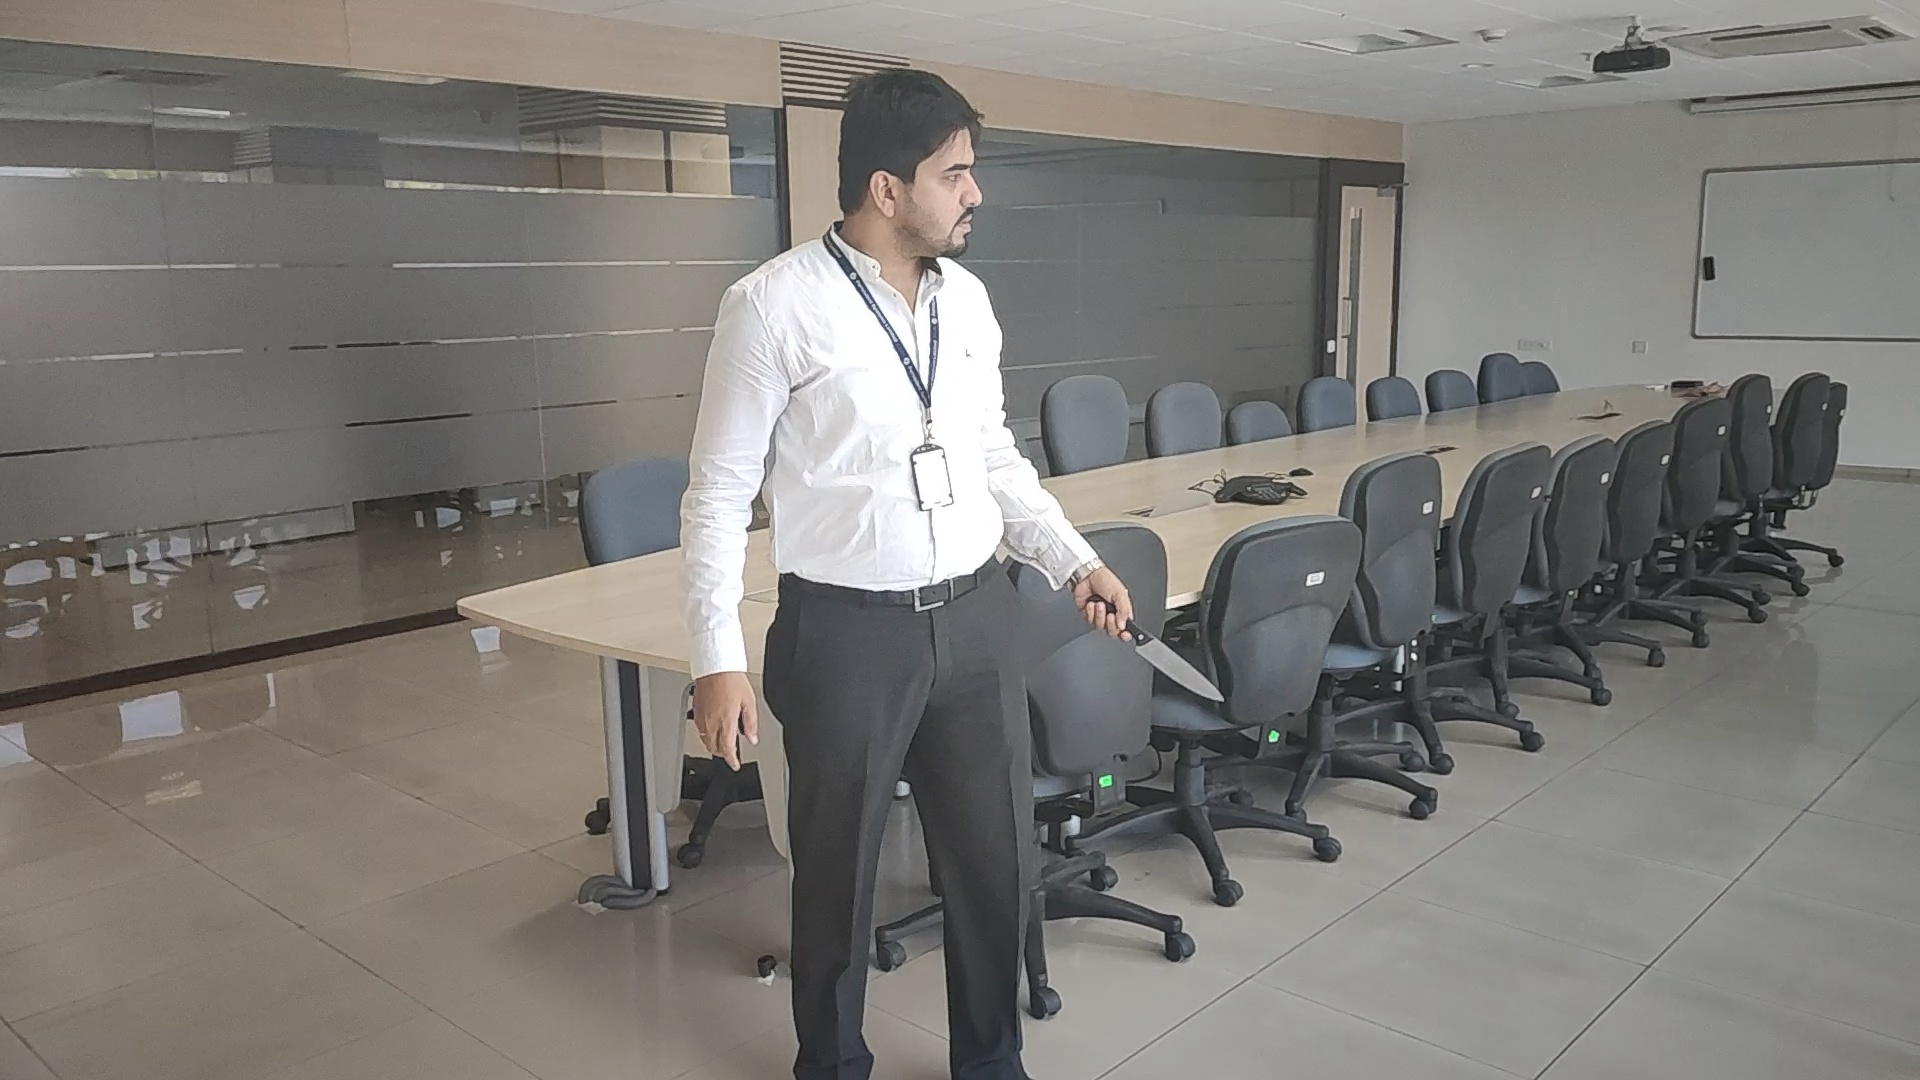knife: (1134, 624, 1226, 704)
